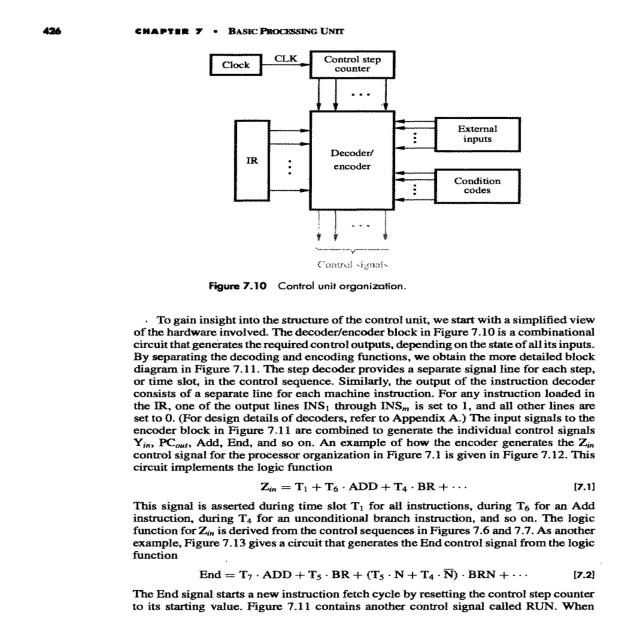diagram: (48, 40, 640, 295)
